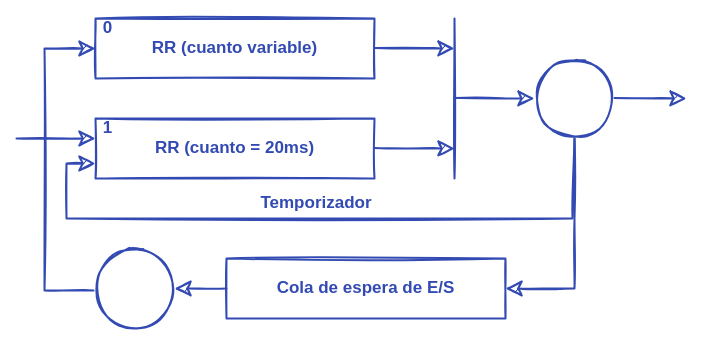
This 701x345 diagram has some shape labels left out. Here are the shapes that lost their labels. From the top down, the centre of each, then its label:
the point at 574,98: CPU
the point at 134,288: E/S
